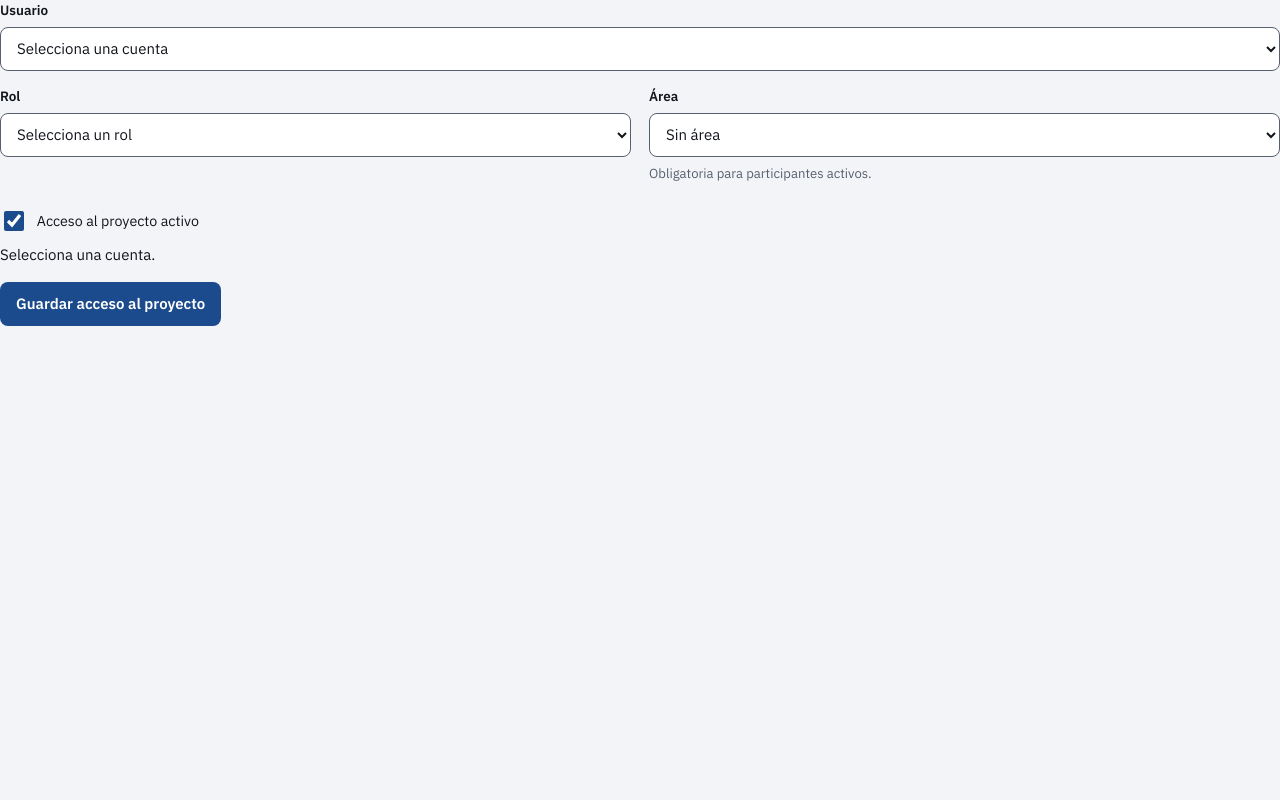
Test: ascenso pide confirmación y cancelar conserva datos y devuelve foco
This screenshot has width=1280, height=800.
Select "Carla · ya está en el proyecto" in the dropdown labelled "Usuario" at [640, 49], box [0, 27, 1279, 71]
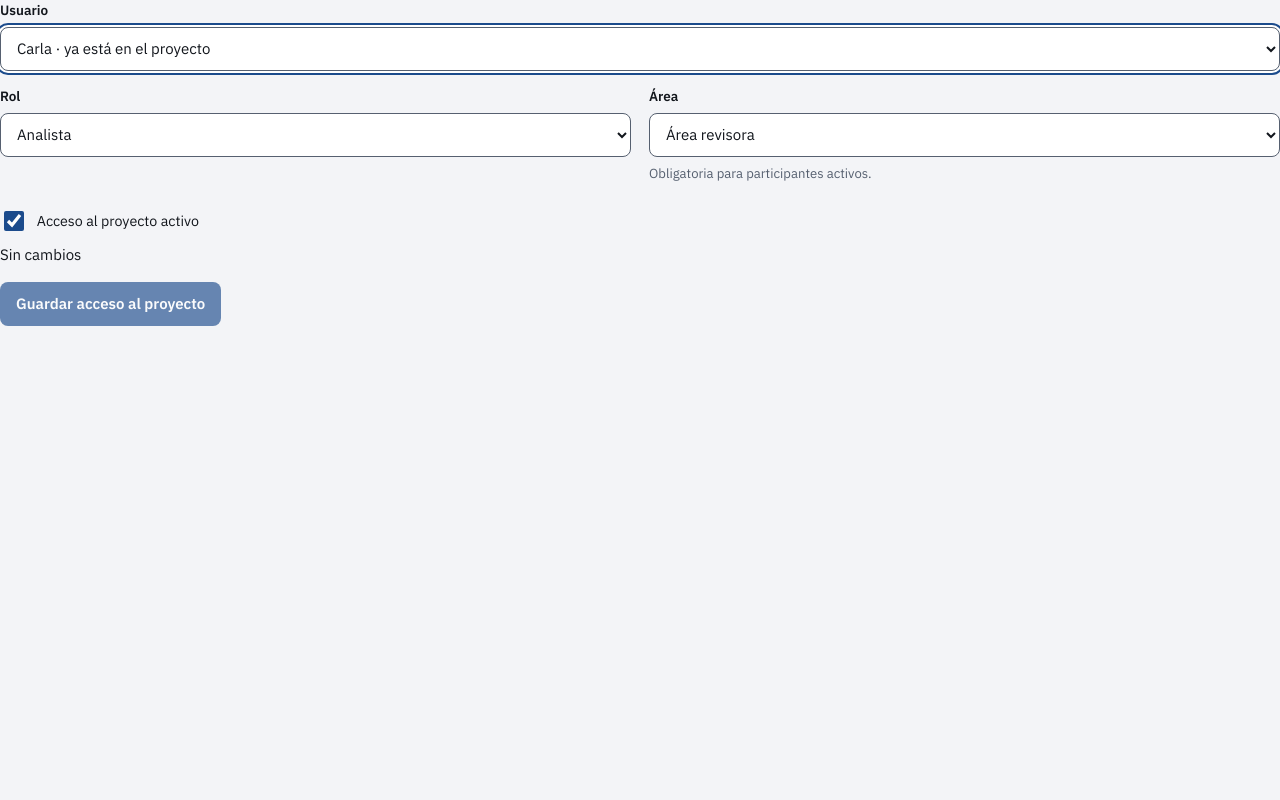
Select "Administración" in the dropdown labelled "Rol" at [316, 135], box [0, 113, 631, 157]
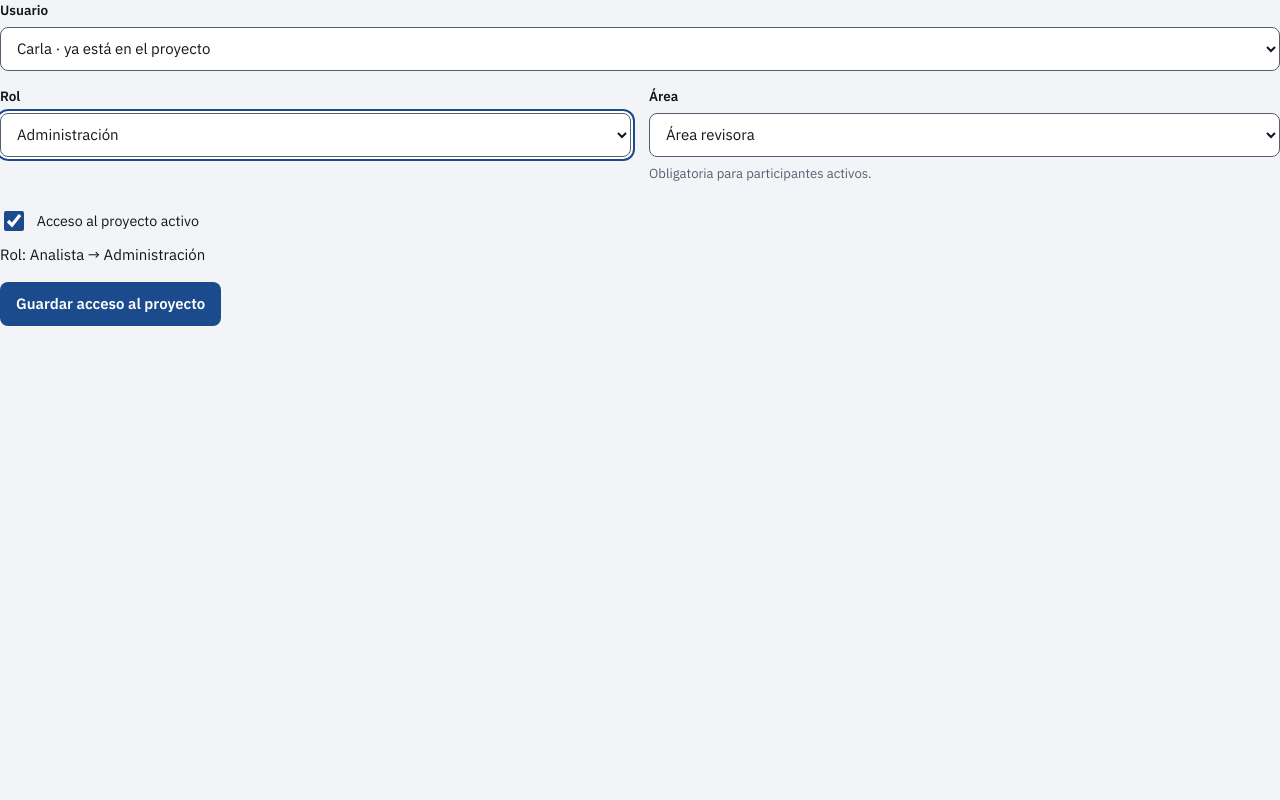
Click the button "Guardar acceso al proyecto" at [111, 304], box [0, 282, 221, 326]
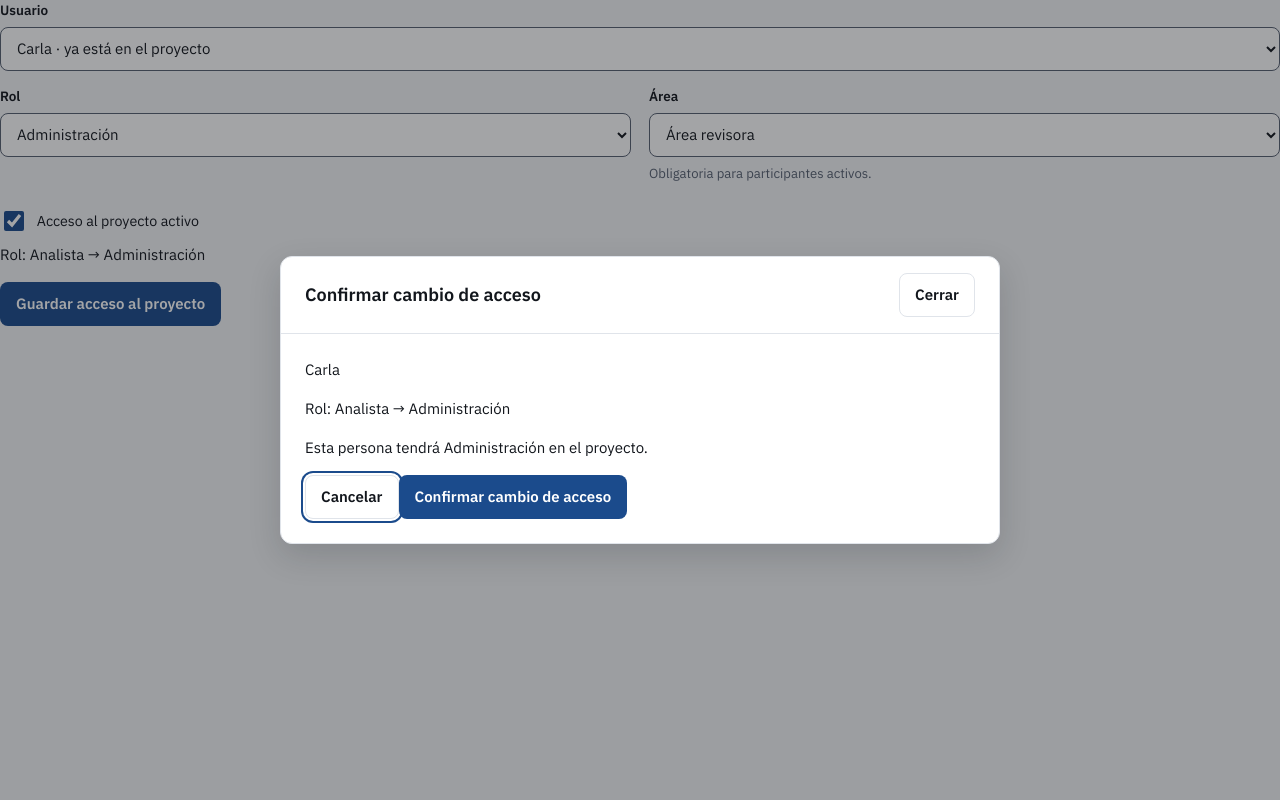
expect the dialog is shown: met, box [280, 256, 1000, 544]
expect the text "Esta persona tendrá Administración en el proyecto." is shown: met, box [305, 438, 648, 457]
Click the button "Cancelar" at [352, 497], box [305, 475, 398, 519]
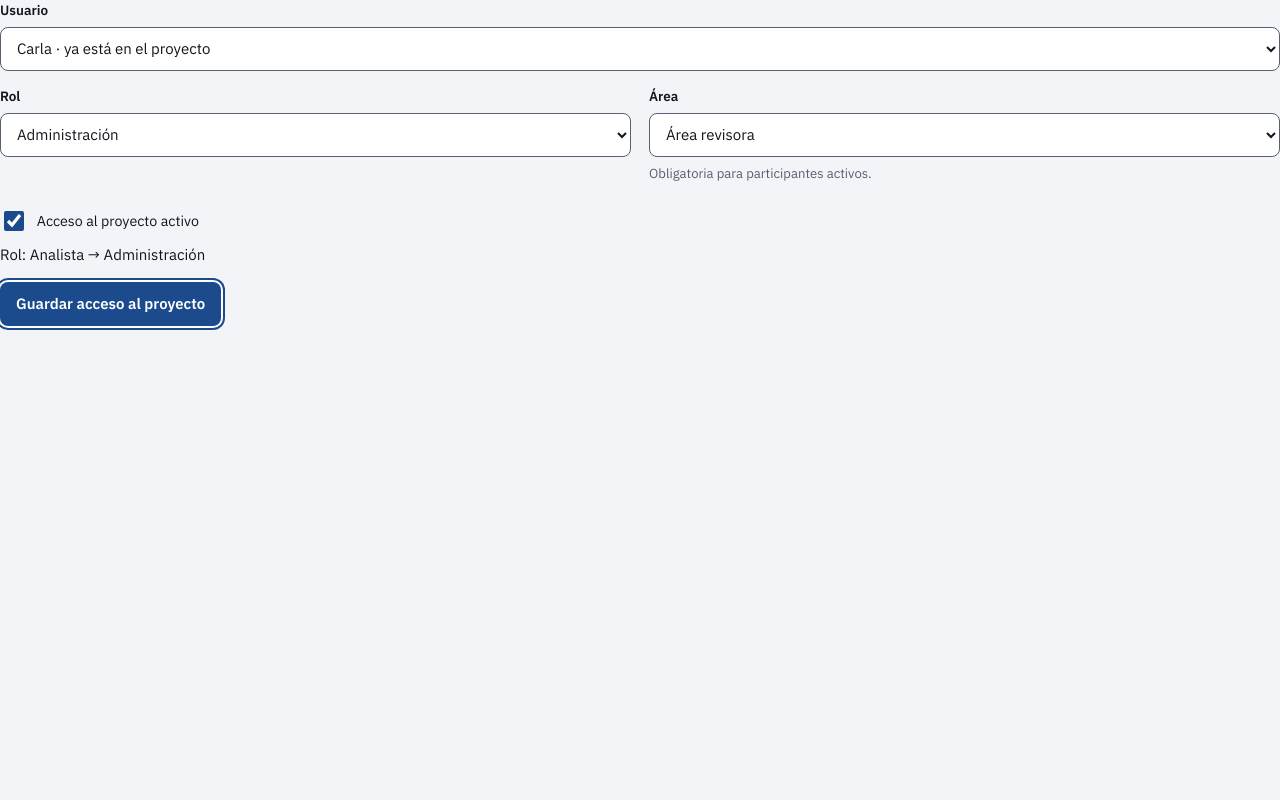
expect the dialog is gone: met
